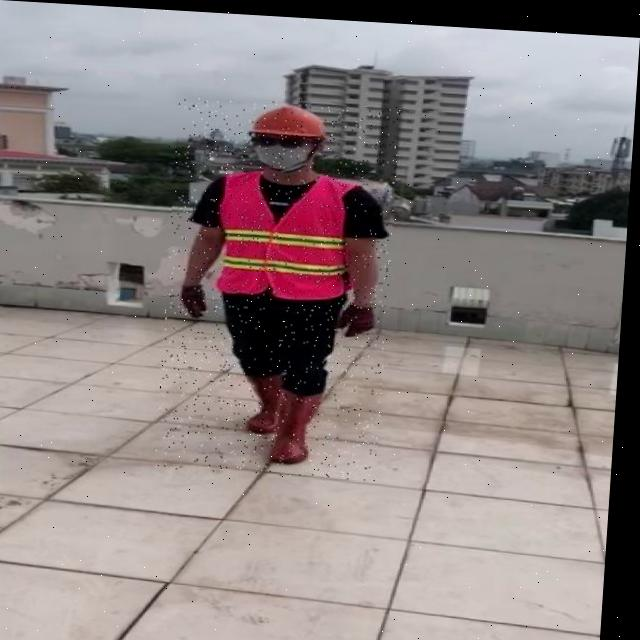Gloves: (343, 297, 381, 333), (185, 280, 213, 316)
Helmet: (249, 99, 329, 170)
Safety-Boot: (277, 382, 330, 462), (252, 368, 290, 430)
Safety-Vest: (217, 164, 367, 299)
